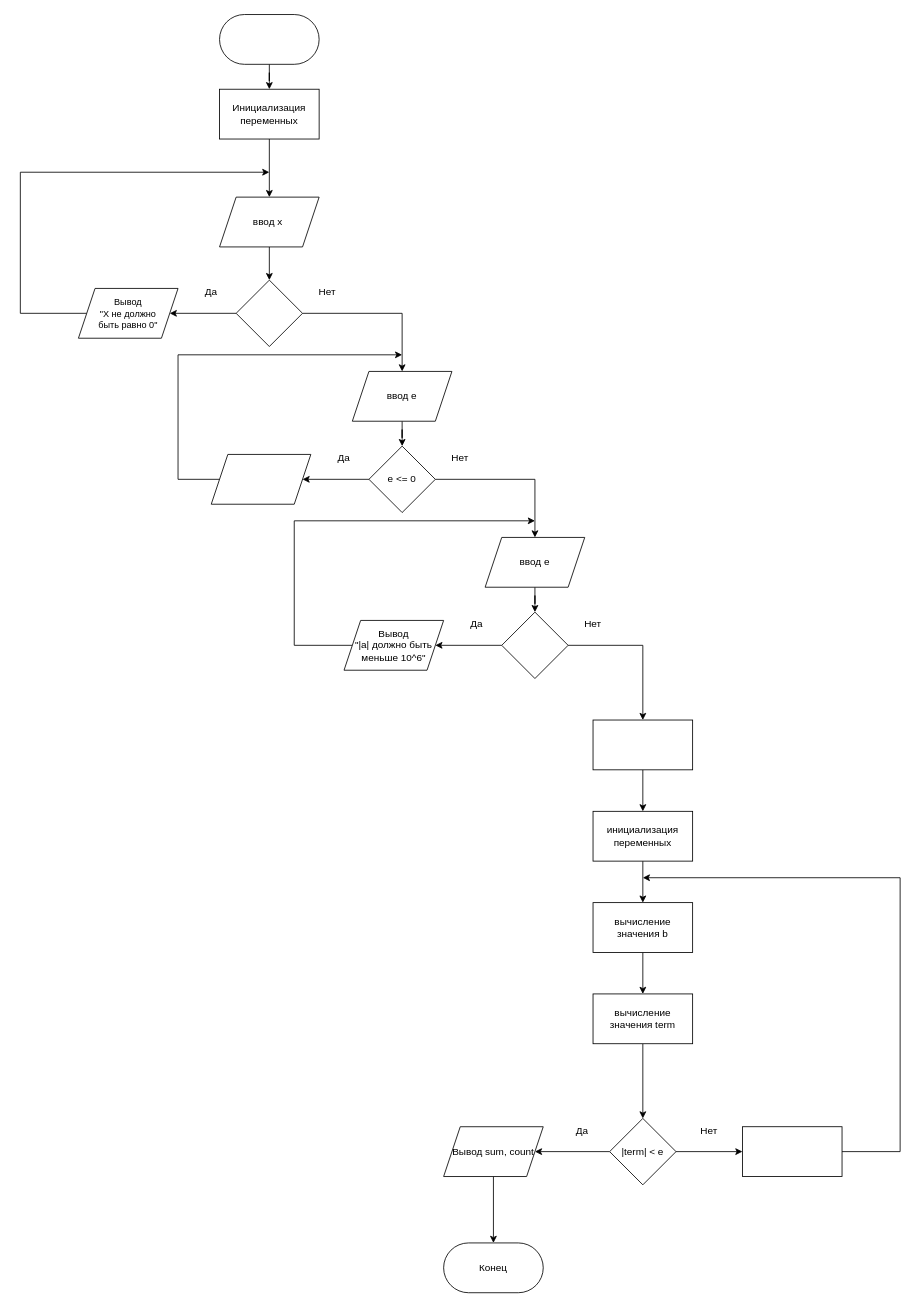
Some shapes in this 921 by 1307 pixel diagram are drawn without their labels. The shapes that lost their labels are listed below. From the top down, each one's centre as x and y in pixels, then its label:
point (269, 39): Начало
point (269, 313): x == 0
point (260, 479): Вывод "e должно быть положительным"
point (534, 645): |a| >= 1000000
point (642, 744): вычисление значения a_factorial
point (792, 1151): добавления слагаемого к sum
